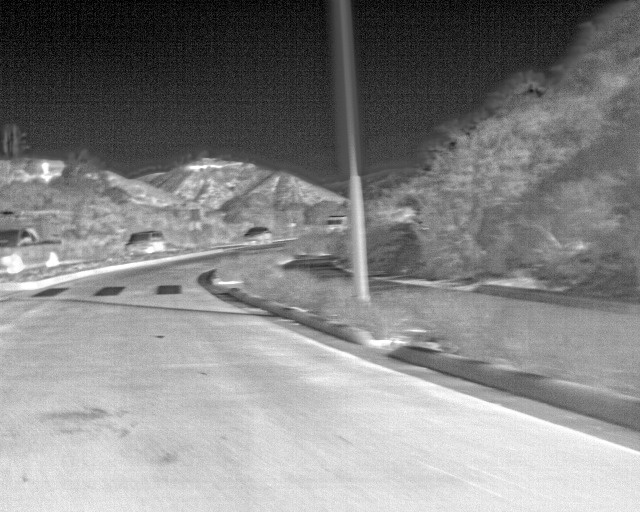vehicle: (2, 229, 69, 278), (128, 233, 168, 256), (241, 227, 275, 247)
